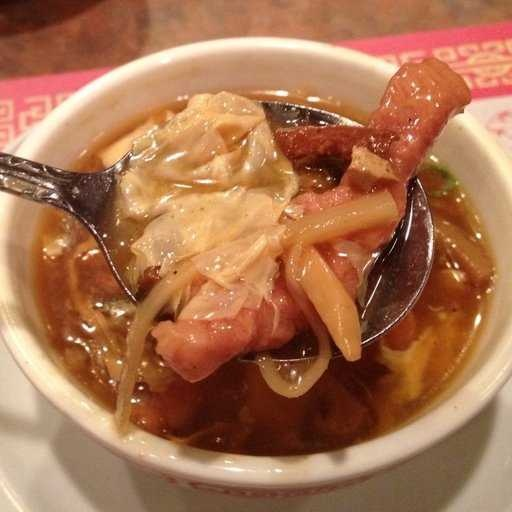soup: (10, 58, 481, 468)
